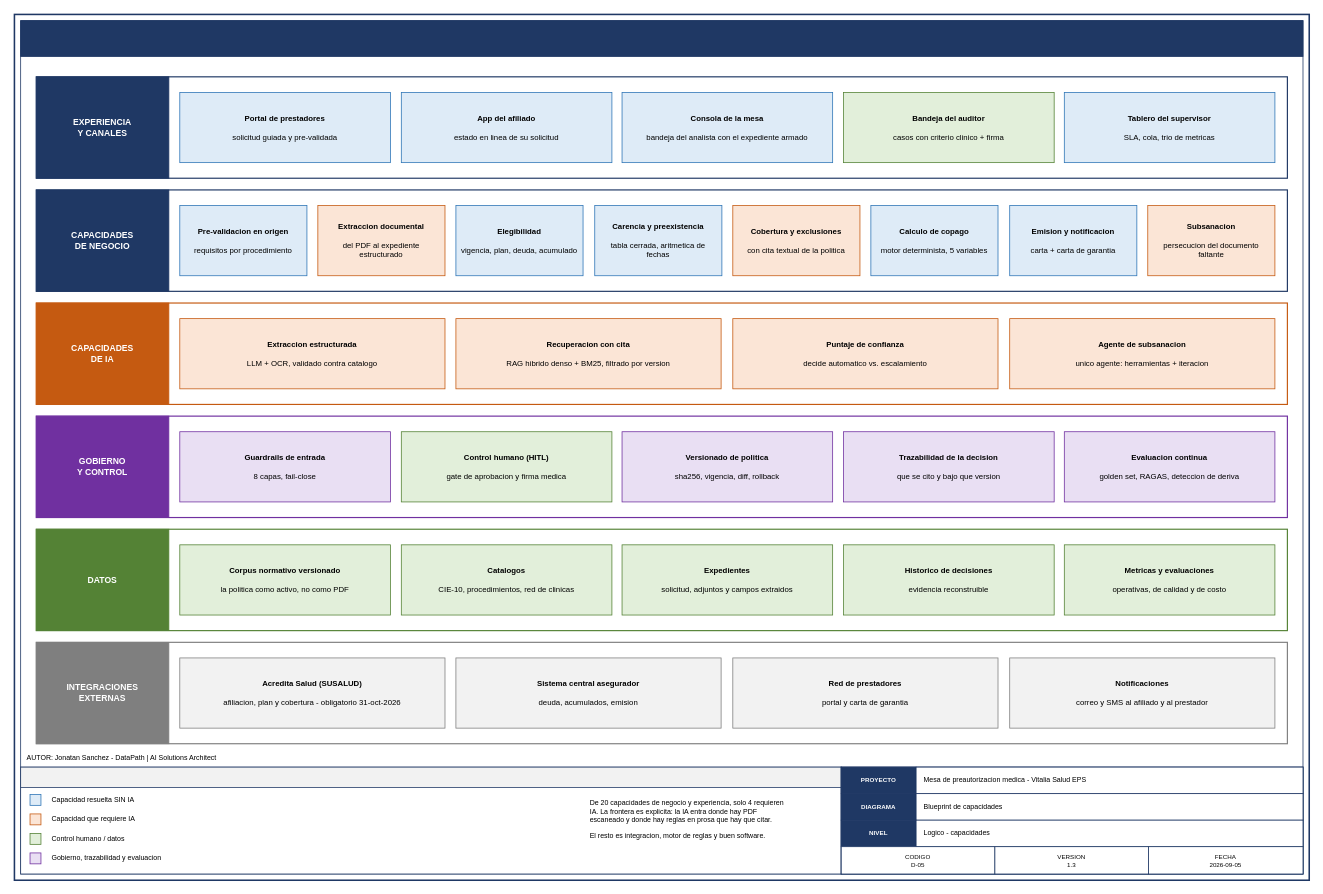
This 1323x894 diagram has some shape labels left out. Each missing label, with the box of its shape:
BLUEPRINT DE LA SOLUCION - MAPA DE CAPACIDADES: (20, 20, 1303, 57)
LEYENDA / NOTAS: (20, 766, 841, 787)
